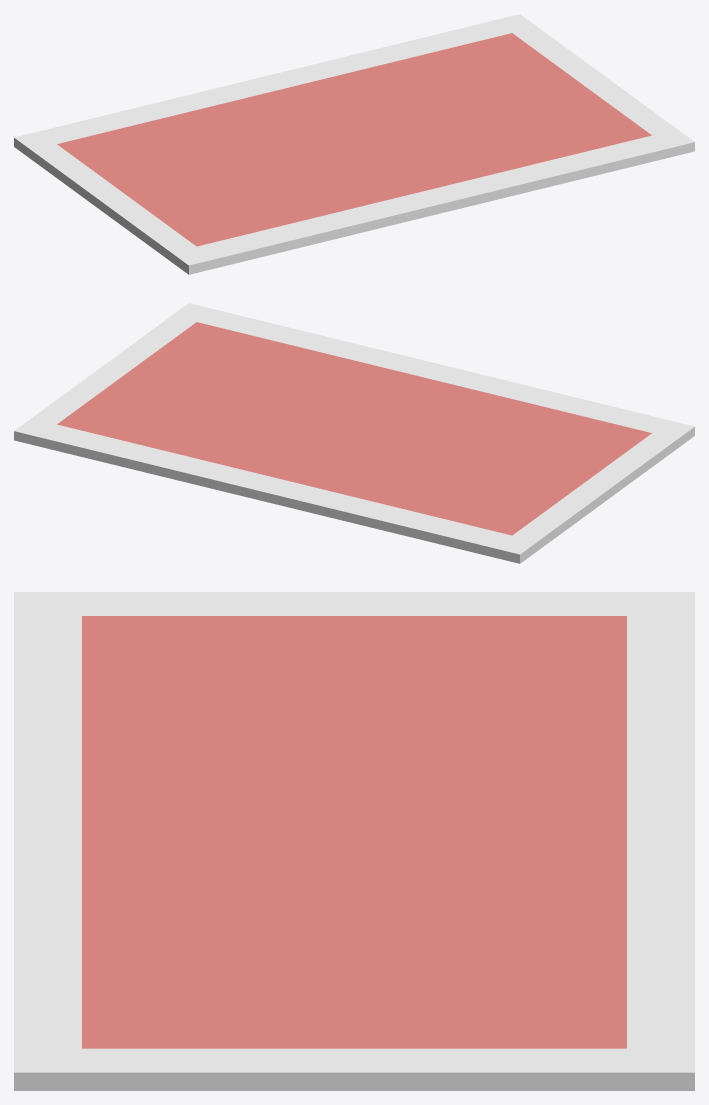
File: tapestry.obj
The picture shows the model from 3 angles, top to bottom: view 1: azimuth 30°, elevation 25°; view 2: azimuth 150°, elevation 25°; view 3: azimuth 270°, elevation 25°; orthographic projection. The views are drawn at different scales.
Parts seen in each view (by area): view 1: pCube1; view 2: pCube1; view 3: pCube1.
Boxes of the visible parts, box(x1,y1,x2,y2) form: pCube1: box(14, 14, 694, 274); pCube1: box(14, 303, 694, 563); pCube1: box(14, 592, 694, 1090).
Size of the model in its own units: 4.92 by 0.0866 by 2.94.
2 materials, 2 textured.
